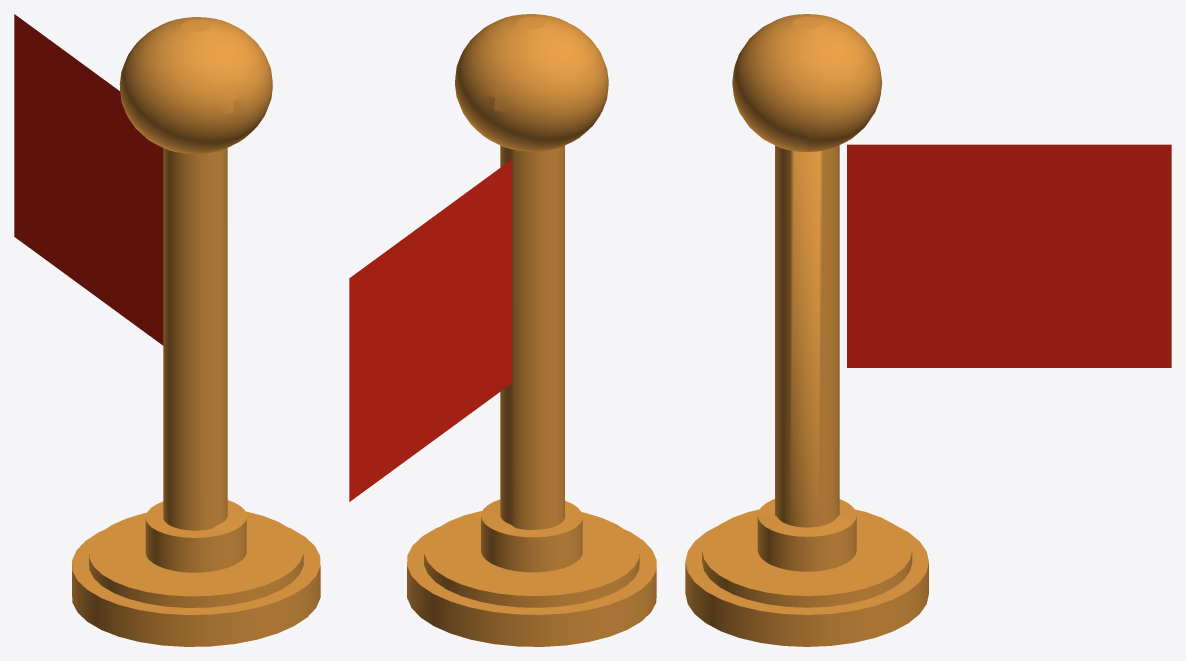
The model's file is marioPole.fbx.
The picture shows the model from 3 angles, left to right: view 1: azimuth 30°, elevation 25°; view 2: azimuth 150°, elevation 25°; view 3: azimuth 270°, elevation 25°; orthographic projection.
Parts seen in each view (by area): view 1: Cylinder.003, Plane; view 2: Cylinder.003, Plane; view 3: Plane, Cylinder.003.
Part boxes in pixels (x1,y1,x2,y2): Cylinder.003: [72, 17, 320, 646]; Plane: [14, 14, 163, 345]; Cylinder.003: [407, 14, 656, 646]; Plane: [349, 159, 511, 501]; Plane: [847, 144, 1171, 367]; Cylinder.003: [685, 14, 928, 646].
Bounding box in the file's own units: 155 × 389 × 300.
